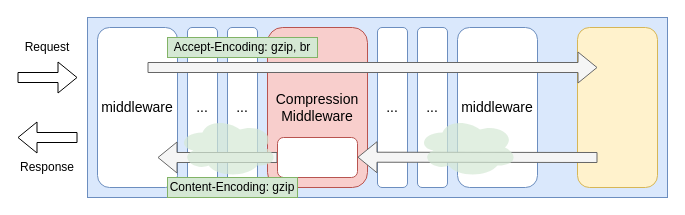
Some shapes in this 685 by 215 pixel diagram are drawn without their labels. Here are the shapes that lost their labels. From the top down, the centre of each, then its label:
point 617,107: Handler
point 227,147: Compressed body
point 317,157: Compress body
point 467,147: Uncompressed body
